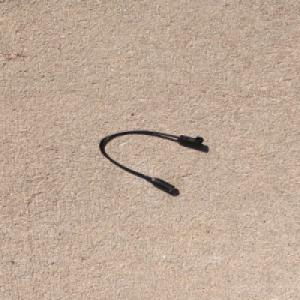Wire: (98, 128, 206, 193)
